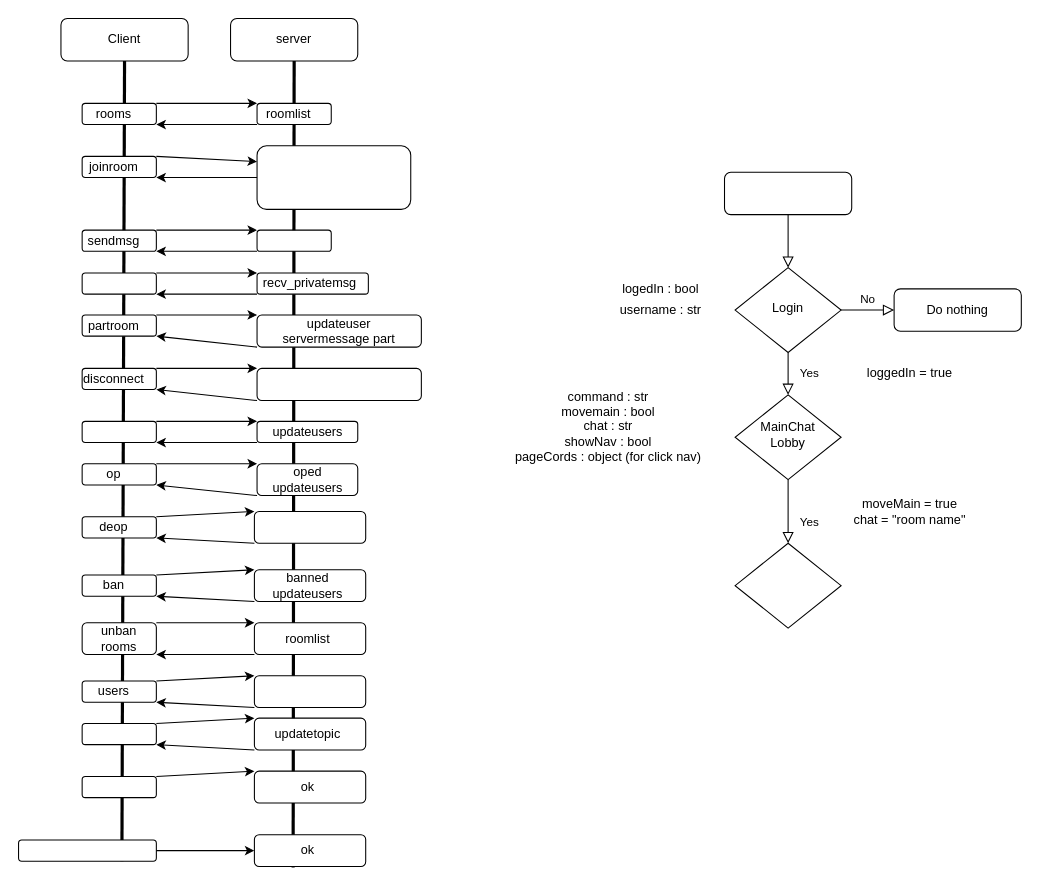
Some shapes in this 1040 by 888 pixel diagram are drawn without their labels. The centre of each missing label's shape, as x and y in pixels:
"Chat Lobby" belongs at point (787, 585).
"ChatIO" belongs at point (787, 193).
"deopped updateusers" belongs at point (309, 526).
"kick" belongs at point (118, 431).
"privatemsg" belongs at point (118, 283).
"removepassword" belongs at point (86, 850).
"setpassword" belongs at point (118, 786).
"settopic" belongs at point (118, 733).
"updatechat" belongs at point (293, 240).
"updateuser servermessage quit" belongs at point (338, 384).
"updateusers updatetopic servermessage join" belongs at point (333, 177).
"userlist" belongs at point (309, 691).
